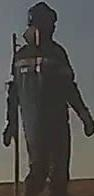gloves: (76, 107, 94, 138), (2, 120, 17, 148)
vest: (5, 45, 73, 142)
